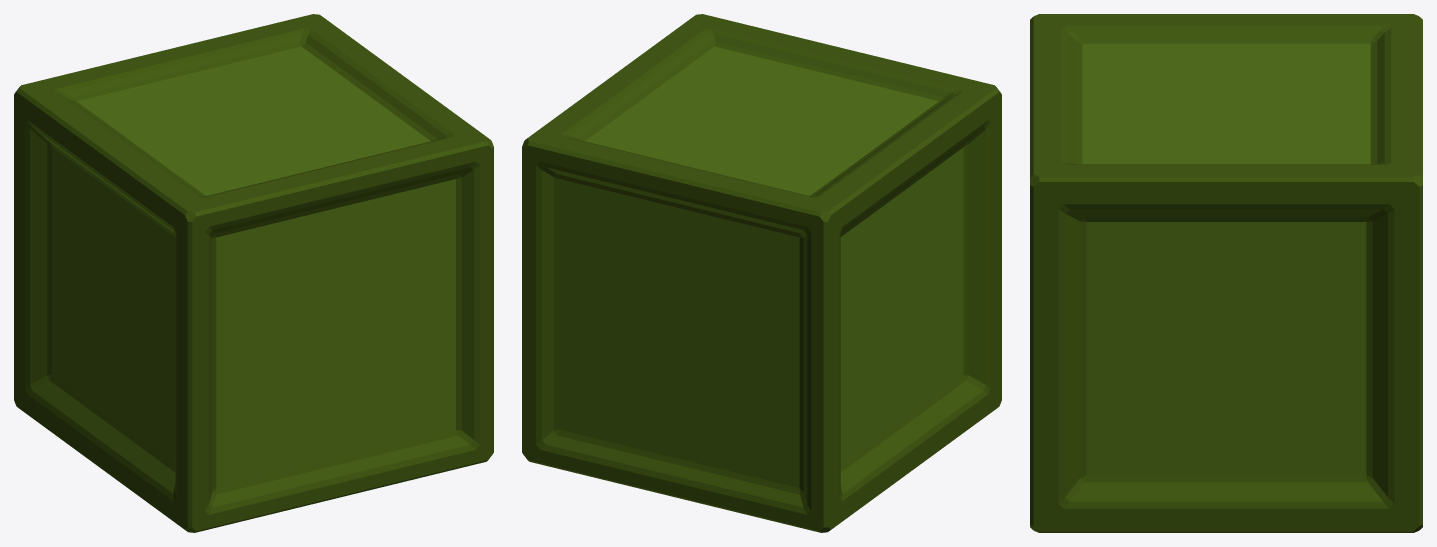
The model's file is Supply_Box_Power_Up_5.fbx.
3 renders of one model, left to right at view 1: azimuth 30°, elevation 25°; view 2: azimuth 150°, elevation 25°; view 3: azimuth 270°, elevation 25°, orthographic. The views are drawn at different scales.
Parts seen in each view (by area): view 1: Cube.002; view 2: Cube.002; view 3: Cube.002.
Part boxes in pixels (bbox=[...]): Cube.002: bbox=[14, 14, 493, 532]; Cube.002: bbox=[522, 14, 1001, 532]; Cube.002: bbox=[1030, 14, 1422, 532].
Bounding box in the file's own units: 200 × 200 × 200.
